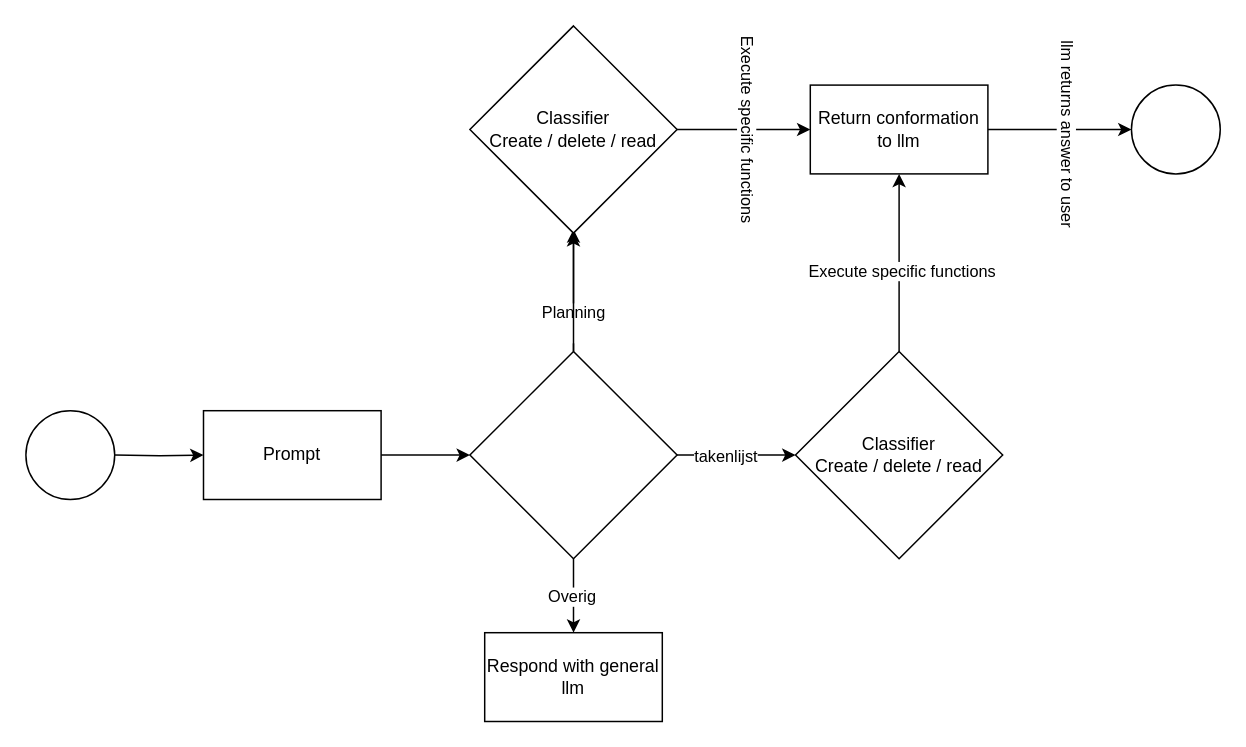
Some shapes in this 1246 by 747 pixel diagram are drawn without their labels. The shapes that lost their labels are listed below. From the top down, each one's box as (x1, y1, x2, y2) in pixels, then its label:
(1130, 84, 1220, 174): End
(24, 409, 115, 500): Start
(468, 350, 677, 559): Classifier Planning / takenlijst/ overig
